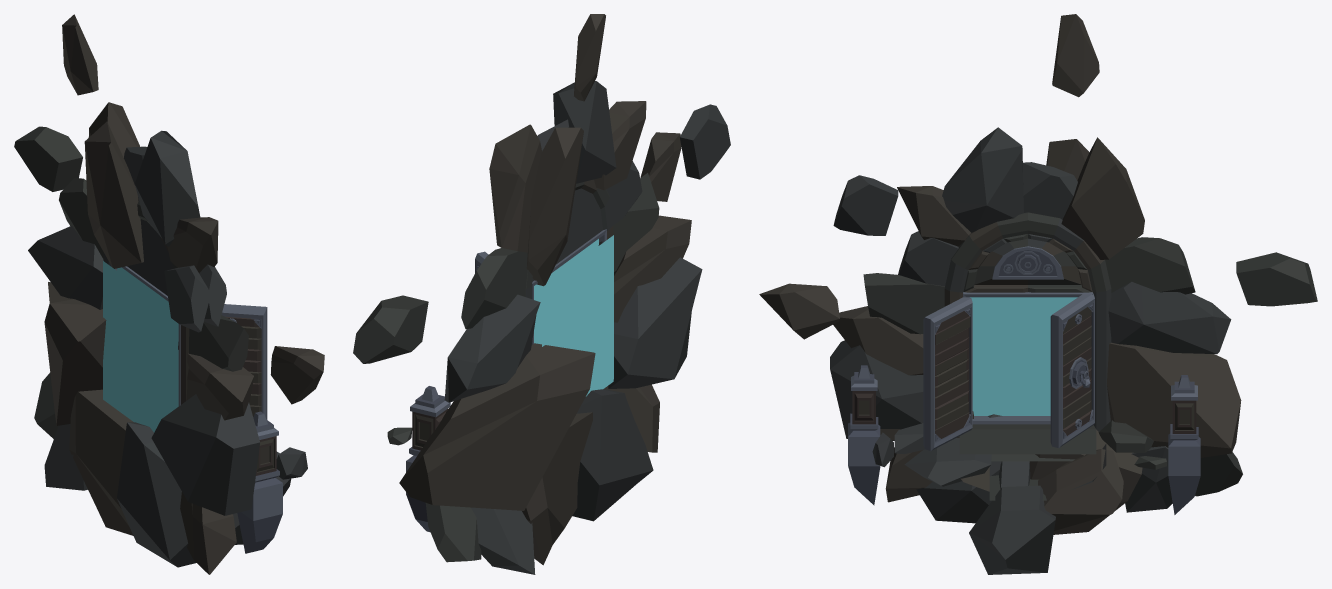
File: Gate.fbx
3 renders of one model, left to right at view 1: azimuth 30°, elevation 25°; view 2: azimuth 150°, elevation 25°; view 3: azimuth 270°, elevation 25°, orthographic. The views are drawn at different scales.
Parts seen in each view (by area): view 1: Cube.002, Cylinder.000; view 2: Cube.002, Cylinder.000; view 3: Cube.002, Cylinder.000.
Part boxes in pixels (bbox=[...]): Cube.002: bbox=[14, 14, 324, 574]; Cylinder.000: bbox=[103, 261, 178, 432]; Cube.002: bbox=[353, 14, 730, 574]; Cylinder.000: bbox=[534, 235, 613, 396]; Cube.002: bbox=[759, 14, 1317, 574]; Cylinder.000: bbox=[970, 297, 1077, 415].
Size of the model in its own units: 1267 by 3478 by 3456.
